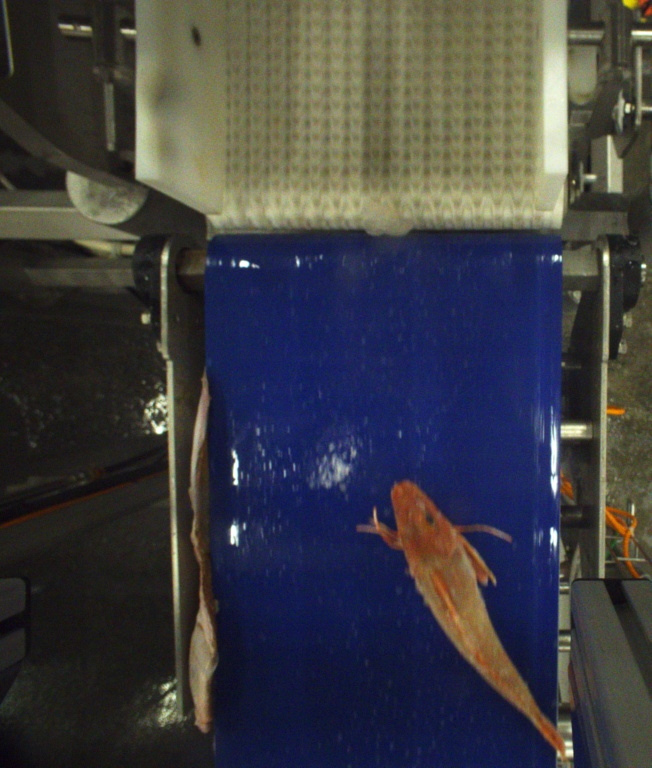GUU: (369, 480, 567, 760)
